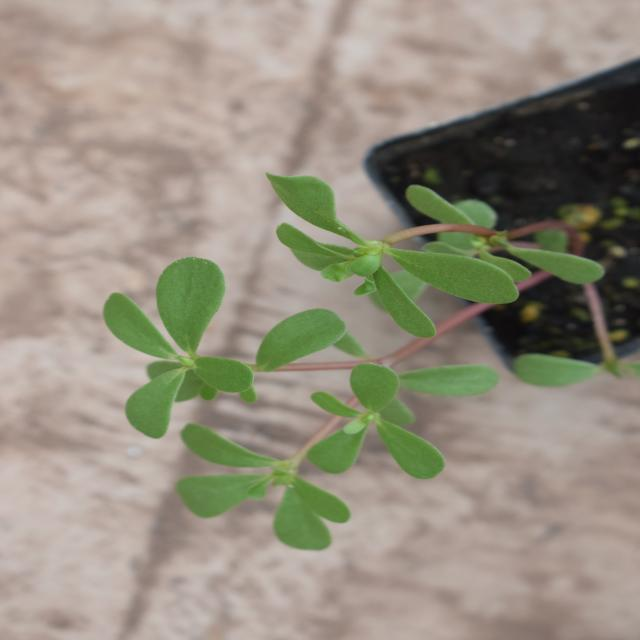purslane: (169, 45, 549, 543)
